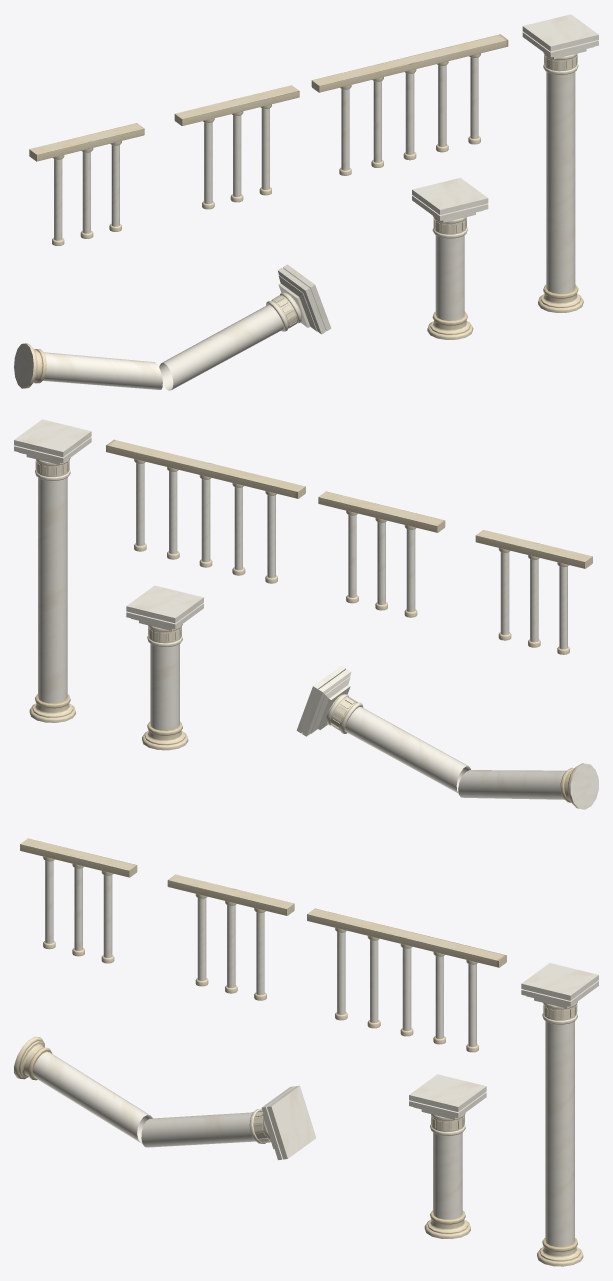
File: fences-pillars.fbx
The picture shows the model from 3 angles, top to bottom: view 1: azimuth 30°, elevation 25°; view 2: azimuth 150°, elevation 25°; view 3: azimuth 330°, elevation 25°; orthographic projection.
Parts seen in each view (by area): view 1: Brocken_pillar, Tall_pillar, Long_fence, Pillar, Med_fence, Small_fence; view 2: Brocken_pillar, Tall_pillar, Long_fence, Pillar, Med_fence, Small_fence; view 3: Brocken_pillar, Tall_pillar, Long_fence, Pillar, Med_fence, Small_fence.
Boxes of the visible parts, <box> form: Brocken_pillar: <box>14,264,331,390</box>; Tall_pillar: <box>522,14,598,312</box>; Long_fence: <box>311,34,508,175</box>; Pillar: <box>412,178,488,339</box>; Med_fence: <box>174,85,299,209</box>; Small_fence: <box>29,123,144,245</box>; Brocken_pillar: <box>296,665,598,809</box>; Tall_pillar: <box>14,419,91,722</box>; Long_fence: <box>106,439,305,583</box>; Pillar: <box>126,585,203,750</box>; Med_fence: <box>318,491,445,617</box>; Small_fence: <box>475,530,592,654</box>; Brocken_pillar: <box>14,1036,316,1160</box>; Tall_pillar: <box>521,963,598,1266</box>; Long_fence: <box>307,908,506,1052</box>; Pillar: <box>409,1074,486,1238</box>; Med_fence: <box>167,874,294,1000</box>; Small_fence: <box>20,838,137,963</box>.
Size of the model in its own units: 18.77 by 8.99 by 2.17.
